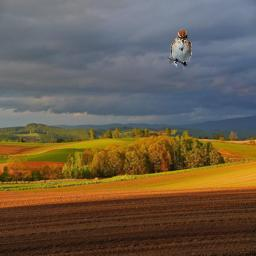Sparrow: (167, 29, 192, 69)
